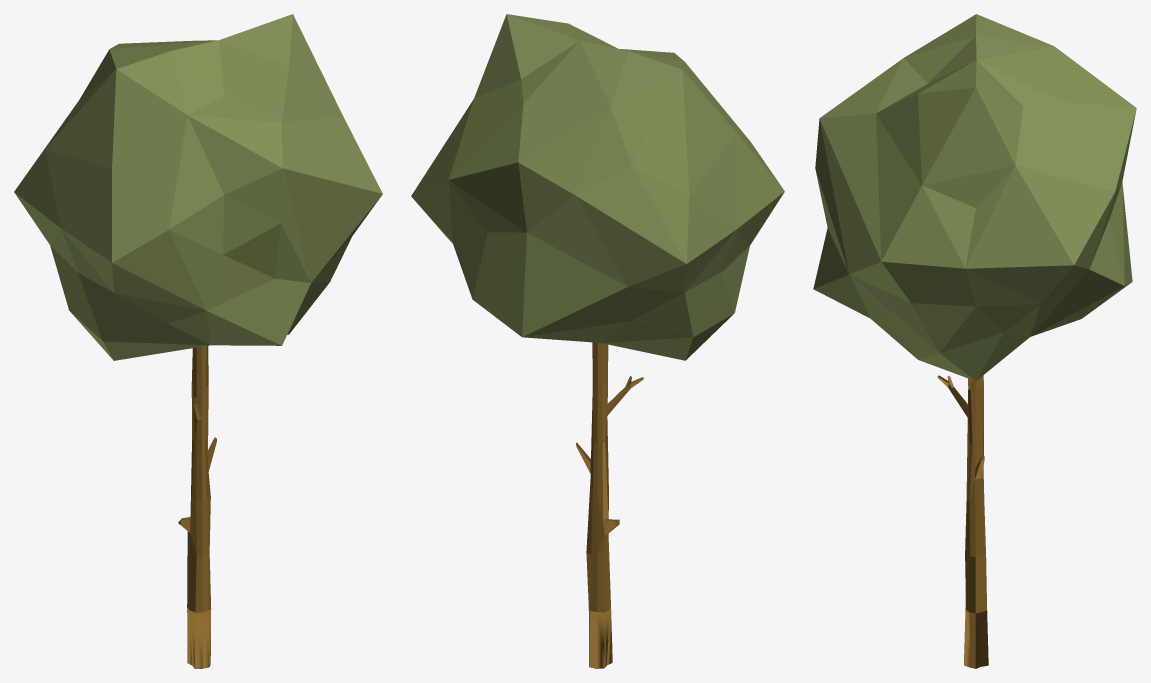
Rendered from tree_six.fbx.
3 renders of one model, left to right at view 1: azimuth 30°, elevation 25°; view 2: azimuth 150°, elevation 25°; view 3: azimuth 270°, elevation 25°, orthographic.
Parts seen in each view (by area): view 1: leafs, wood; view 2: leafs, wood; view 3: leafs, wood.
Part boxes in pixels (x1,y1,x2,y2): leafs: (14,14,382,360); wood: (178,345,216,668); leafs: (411,14,784,360); wood: (576,342,643,668); leafs: (813,14,1136,381); wood: (937,375,988,668).
Bounding box in the file's own units: 572 × 1233 × 581.
